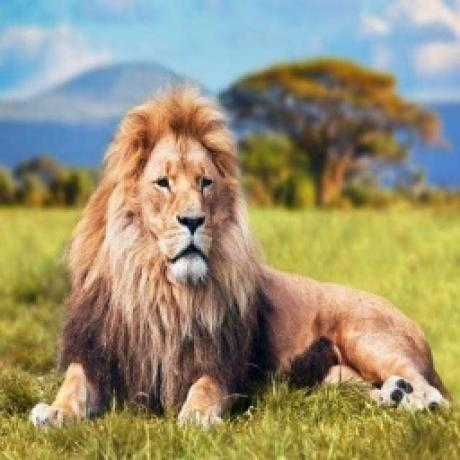Lion: (31, 91, 453, 425)
